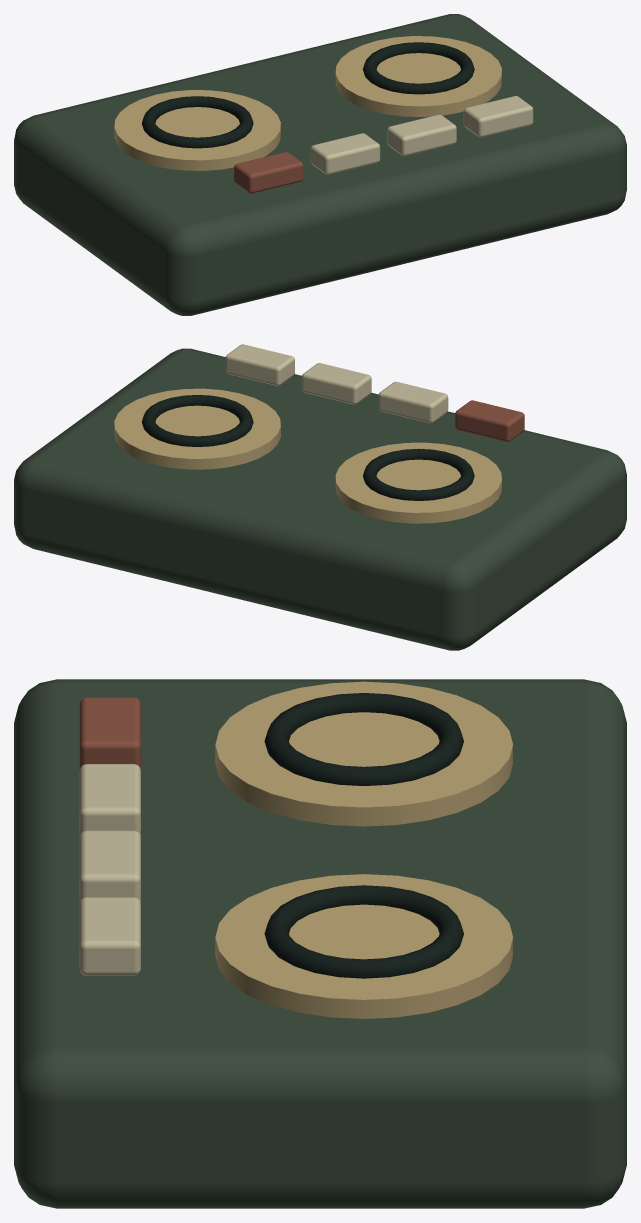
File: recorder.glb
3 views of the same model, one above another, from view 1: azimuth 30°, elevation 25°; view 2: azimuth 150°, elevation 25°; view 3: azimuth 270°, elevation 25° (orthographic). The views are drawn at different scales.
Visible parts, largest first — view 1: recorder; view 2: recorder; view 3: recorder.
Part boxes in pixels (x1,y1,x2,y2): recorder: (14, 14, 626, 315); recorder: (14, 344, 626, 650); recorder: (14, 679, 626, 1208).
Bounding box in the file's own units: 0.54 × 0.131 × 0.35.
